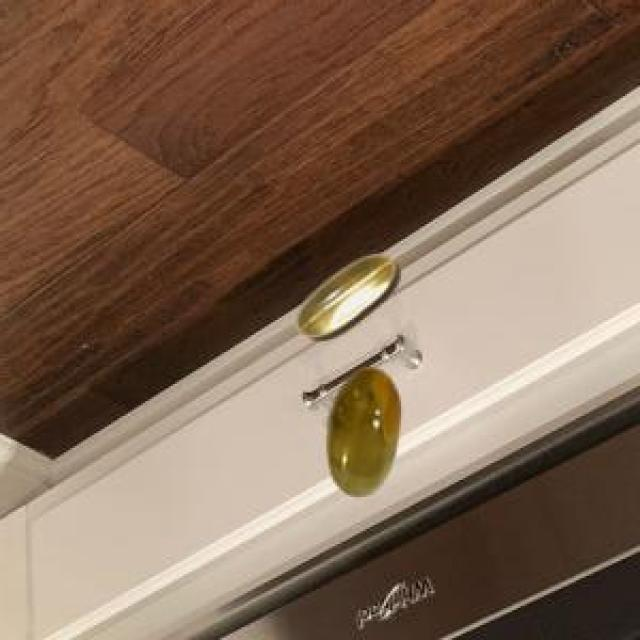Fish_Oil: (319, 362, 414, 511), (285, 248, 417, 345)
